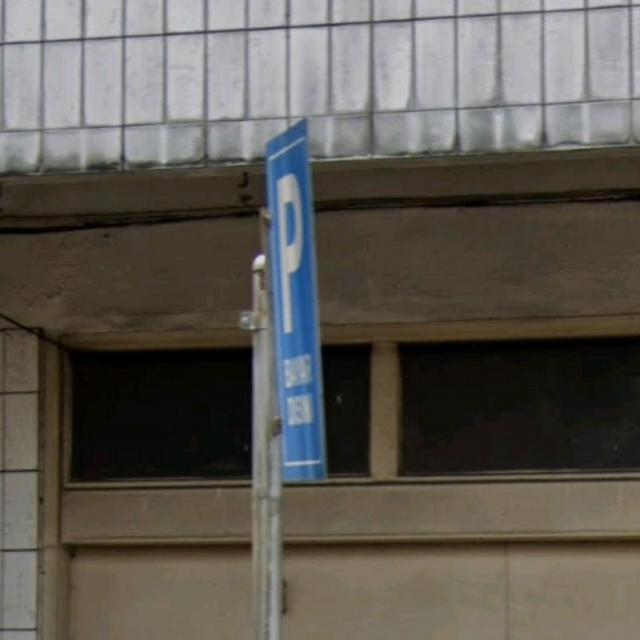traffic sign: (265, 117, 328, 483)
